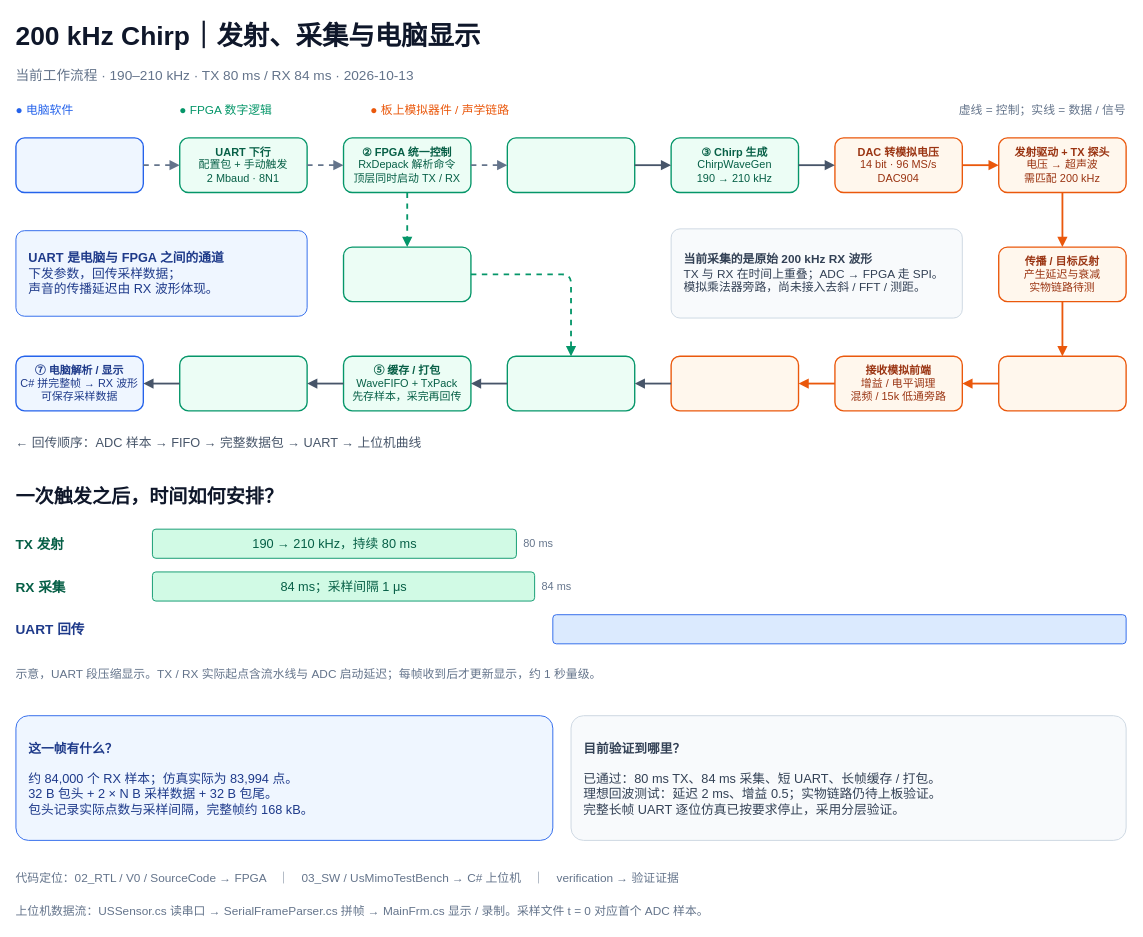
Some shapes in this 1143 by 937 pixel diagram are drawn without their labels. Each missing label, with the box of its shape:
RX 接收探头 超声波 → 微弱电压 可能含噪声和多回波: (998, 355, 1126, 411)
RX 控制 / SPI 读取 RxController + ADC SPI 驱动: (506, 355, 635, 411)
TX 控制 TxController 发射窗 80 ms: (506, 137, 635, 193)
① 电脑配置 / 触发 200 kHz · 20 kHz 带宽 C# 上位机 / COM: (15, 137, 144, 193)
④ ADC 采样 ADS127L21 · 16 bit 1 MS/s；CLK 24 MHz: (670, 355, 799, 411)
⑥ UART 回传 FPGA → 电脑 COM 2 Mbaud · 8N1: (179, 355, 307, 411)
并行开启采集 RX 窗口 84 ms 配置启动延迟 = 0: (342, 246, 471, 302)
采集结束后：理论线速约 0.84 s + 握手间隙: (552, 614, 1126, 644)
